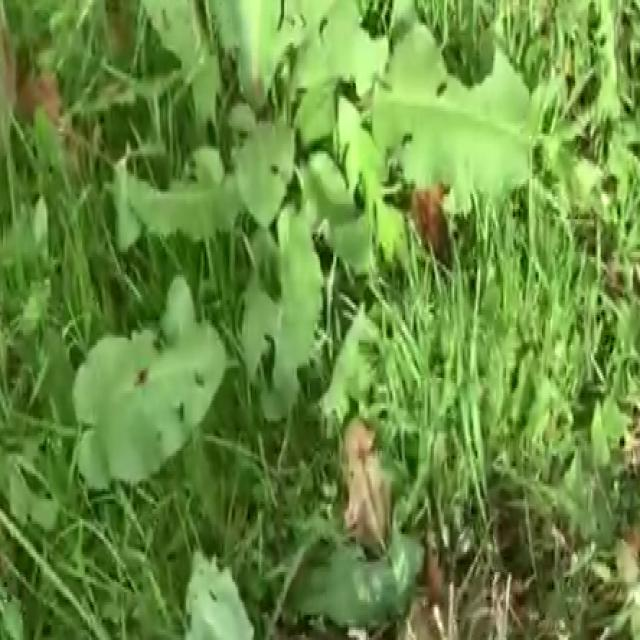organic waste: (63, 0, 550, 547), (178, 522, 446, 628)
